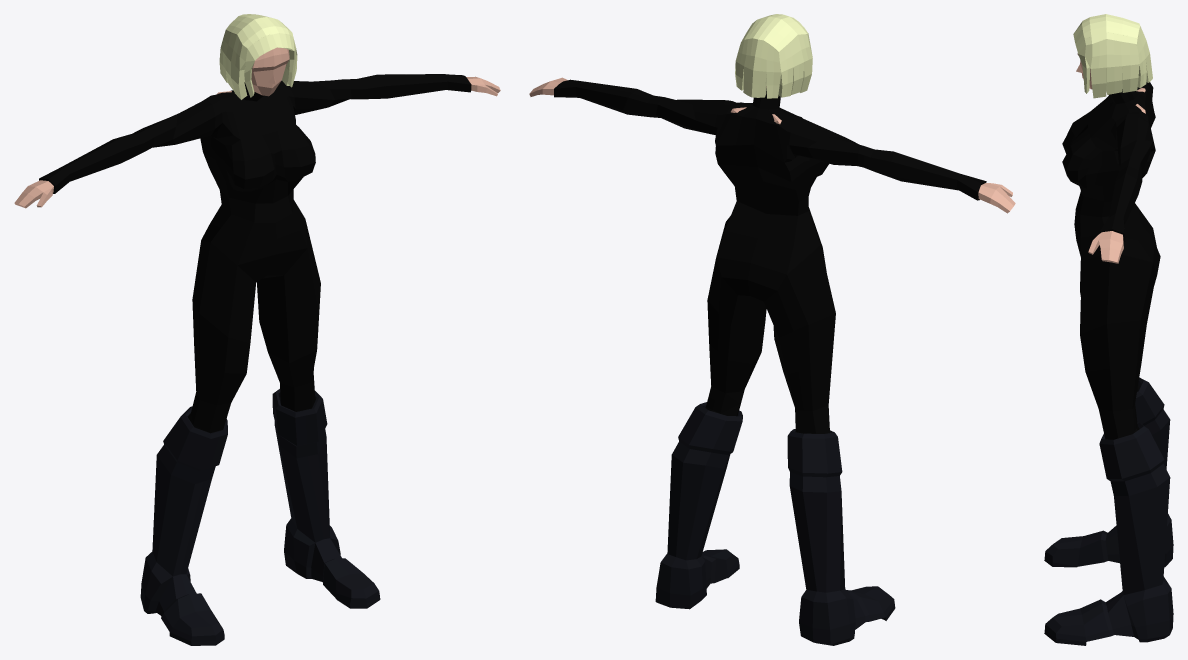
File: character.obj
3 renders of one model, left to right at view 1: azimuth 30°, elevation 25°; view 2: azimuth 150°, elevation 25°; view 3: azimuth 270°, elevation 25°, orthographic.
Parts seen in each view (by area): view 1: clothing, steel_boots, hair, body; view 2: clothing, steel_boots, hair, body; view 3: clothing, steel_boots, hair, body.
Boxes of the visible parts, left/top/right/bottom form: clothing: left=39, top=74, right=471, bottom=433; steel_boots: left=140, top=389, right=380, bottom=645; hair: left=219, top=14, right=297, bottom=99; body: left=14, top=47, right=500, bottom=208; clothing: left=554, top=79, right=986, bottom=433; steel_boots: left=655, top=402, right=895, bottom=645; hair: left=735, top=14, right=812, bottom=98; body: left=529, top=77, right=1015, bottom=213; clothing: left=1062, top=82, right=1160, bottom=439; steel_boots: left=1044, top=377, right=1173, bottom=645; hair: left=1073, top=14, right=1152, bottom=98; body: left=1076, top=53, right=1145, bottom=263.
Bounding box in the file's own units: 2.48 × 2.89 × 0.5833.
4 materials, 4 textured.
